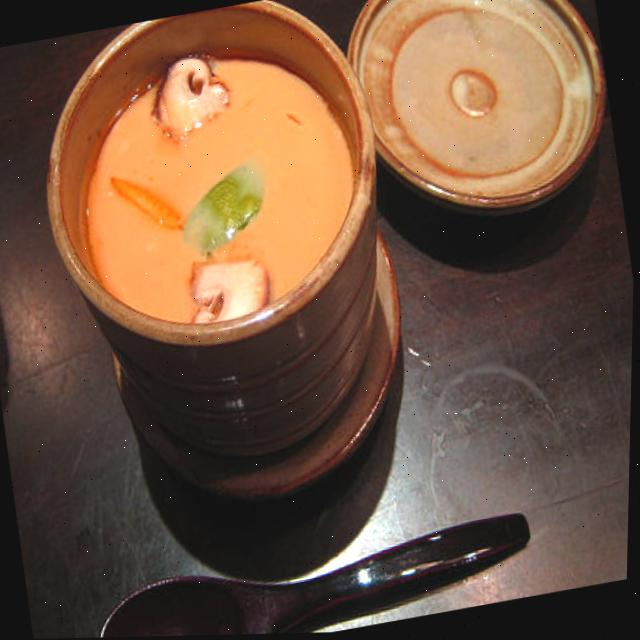鸡蛋料理: (5, 0, 418, 483)
